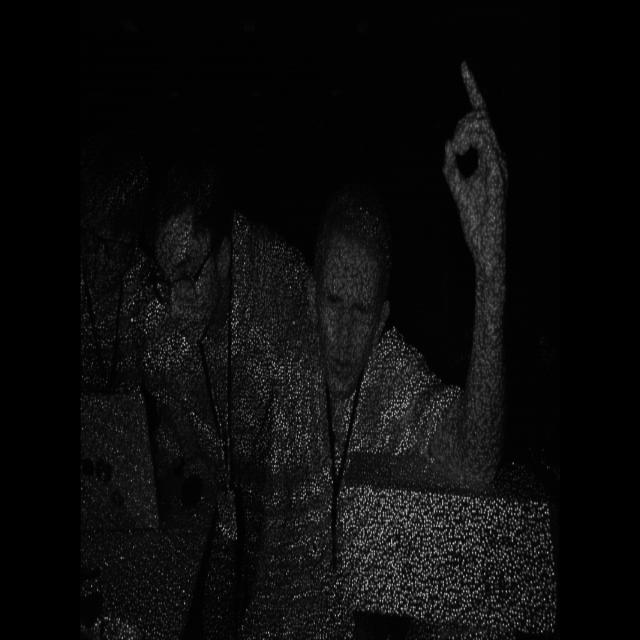D: (430, 45, 523, 294)
